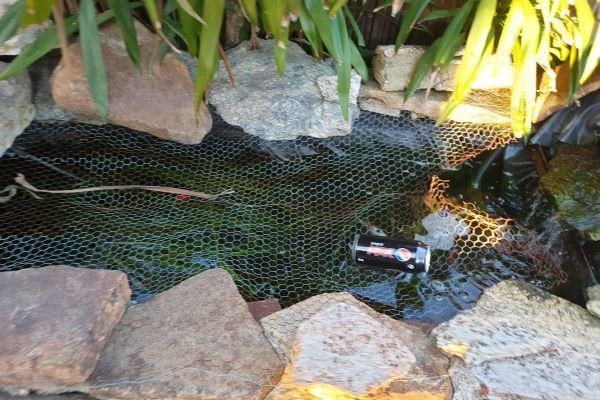Plastic Bottle: (351, 233, 431, 275)
